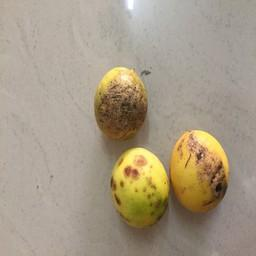Bad_lime: (169, 128, 231, 213), (110, 147, 169, 234), (96, 65, 153, 138)
